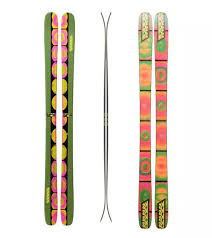skis: (40, 12, 78, 227), (137, 12, 170, 232)
